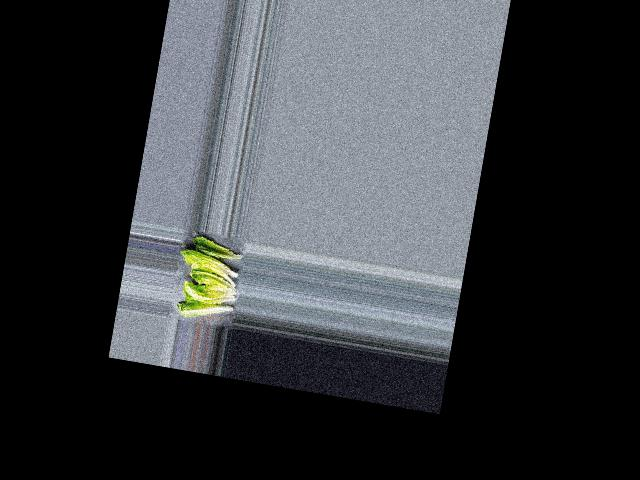lettuce: (191, 236, 246, 262)
